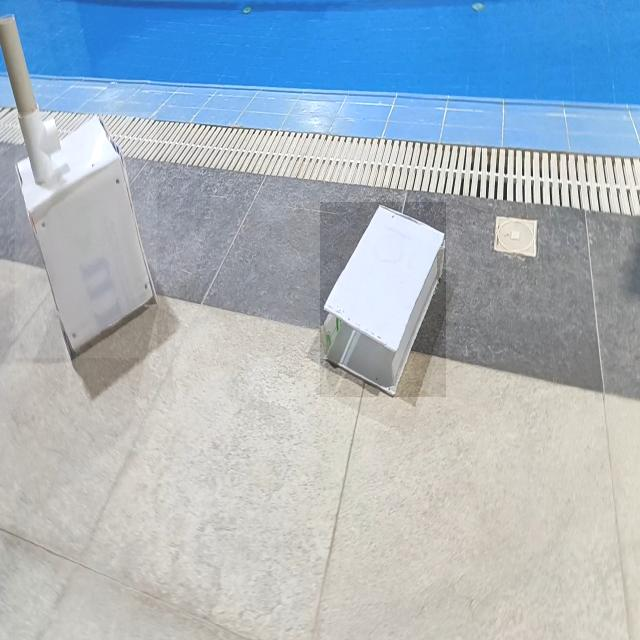Cube: (15, 112, 157, 358)
Cuboid: (320, 202, 446, 397)
